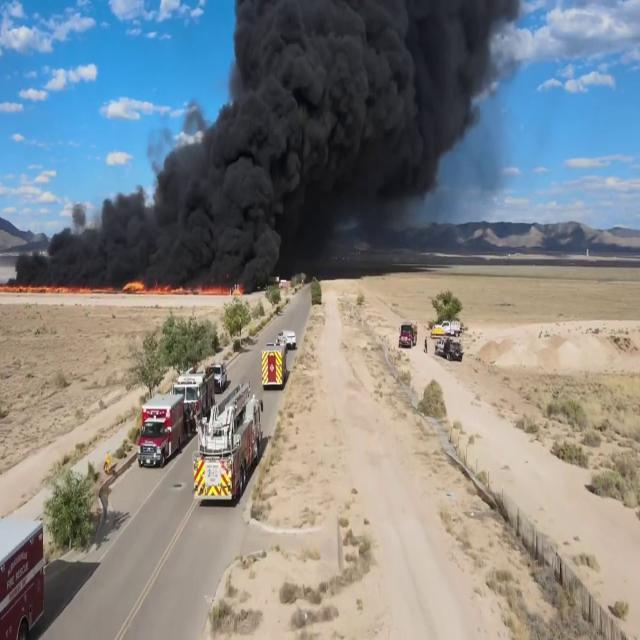Smoke: (48, 0, 514, 291)
